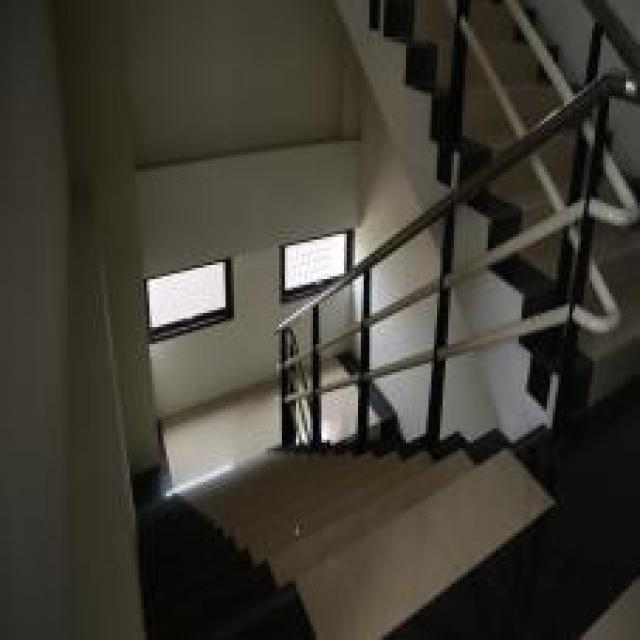downstair: (137, 444, 636, 638)
